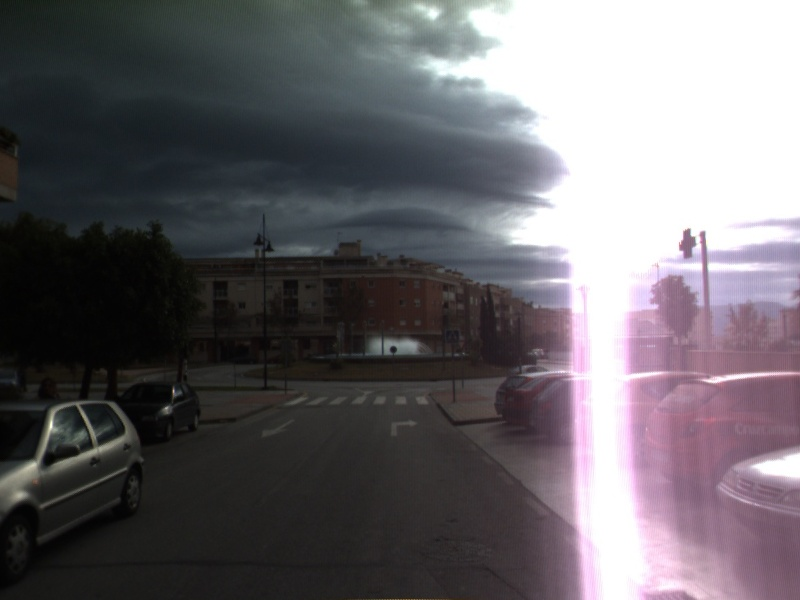RIGHT: (389, 417, 420, 438)
